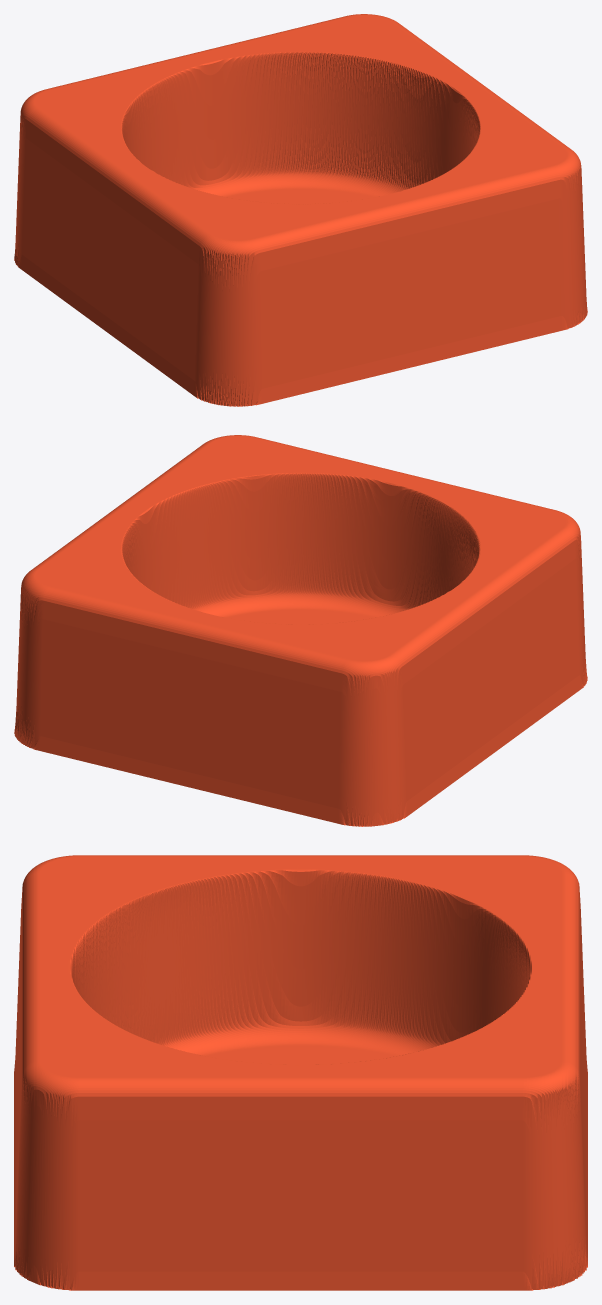
File: mold.glb
3 renders of one model, top to bottom at view 1: azimuth 30°, elevation 25°; view 2: azimuth 150°, elevation 25°; view 3: azimuth 270°, elevation 25°, orthographic. The views are drawn at different scales.
Visible parts, largest first — view 1: geometry_0; view 2: geometry_0; view 3: geometry_0.
Boxes of the visible parts, x1,y1,x2,y2 form: geometry_0: [14, 14, 587, 406]; geometry_0: [14, 435, 587, 826]; geometry_0: [14, 855, 587, 1290].
Bounding box in the file's own units: 0.0798 × 0.031 × 0.0798.
